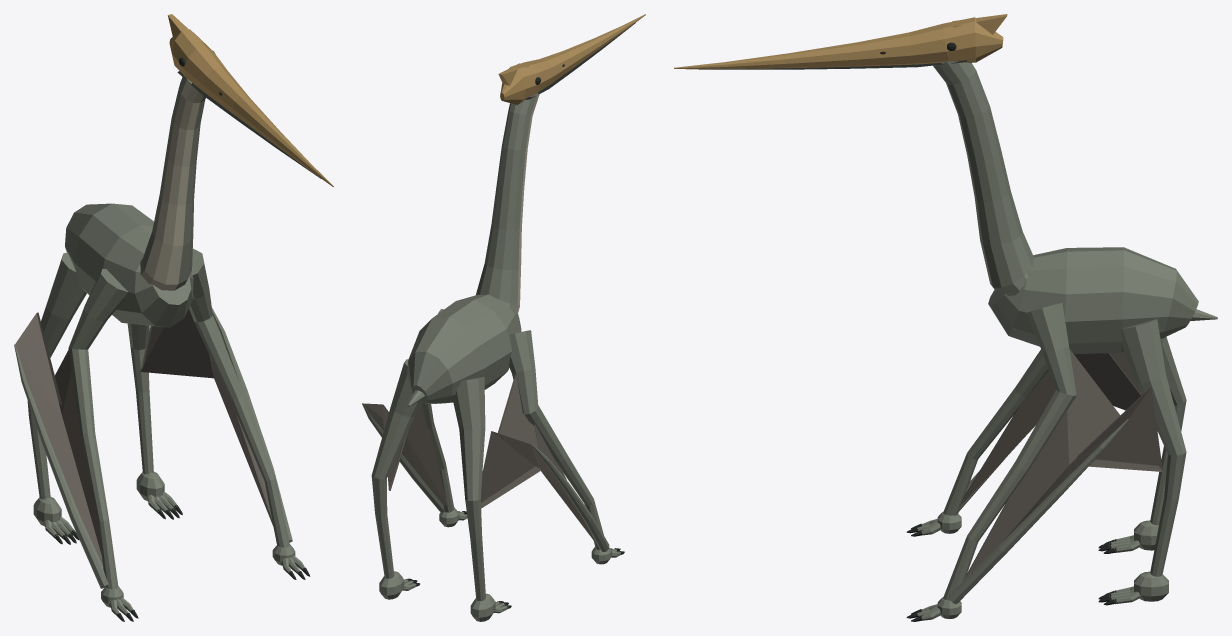
3 views of the same model, side by side, from view 1: azimuth 30°, elevation 25°; view 2: azimuth 150°, elevation 25°; view 3: azimuth 270°, elevation 25° (orthographic). The views are drawn at different scales.
Parts seen in each view (by area): view 1: 01-torso-neck-short-tail, 05-paired-forelimbs-and-three-fingered-hands, 07-folded-leathery-wing-membranes, 04-paired-hindlimbs-and-four-toed-feet, 02-long-toothless-head-and-mandible, 06-folded-wing-fingers; view 2: 01-torso-neck-short-tail, 04-paired-hindlimbs-and-four-toed-feet, 07-folded-leathery-wing-membranes, 05-paired-forelimbs-and-three-fingered-hands, 02-long-toothless-head-and-mandible, 06-folded-wing-fingers; view 3: 01-torso-neck-short-tail, 07-folded-leathery-wing-membranes, 05-paired-forelimbs-and-three-fingered-hands, 04-paired-hindlimbs-and-four-toed-feet, 02-long-toothless-head-and-mandible, 06-folded-wing-fingers.
Part boxes in pixels (<box>): 01-torso-neck-short-tail: <box>65,76,205,327</box>; 05-paired-forelimbs-and-three-fingered-hands: <box>68,248,310,621</box>; 07-folded-leathery-wing-membranes: <box>15,309,273,565</box>; 04-paired-hindlimbs-and-four-toed-feet: <box>27,252,182,544</box>; 02-long-toothless-head-and-mandible: <box>167,14,333,186</box>; 06-folded-wing-fingers: <box>14,308,292,588</box>; 01-torso-neck-short-tail: <box>407,93,539,406</box>; 04-paired-hindlimbs-and-four-toed-feet: <box>371,359,511,621</box>; 07-folded-leathery-wing-membranes: <box>363,374,595,541</box>; 05-paired-forelimbs-and-three-fingered-hands: <box>420,309,624,564</box>; 02-long-toothless-head-and-mandible: <box>498,14,645,104</box>; 06-folded-wing-fingers: <box>362,403,609,551</box>; 01-torso-neck-short-tail: <box>933,61,1217,354</box>; 07-folded-leathery-wing-membranes: <box>960,349,1162,578</box>; 05-paired-forelimbs-and-three-fingered-hands: <box>906,303,1076,621</box>; 04-paired-hindlimbs-and-four-toed-feet: <box>1098,319,1186,605</box>; 02-long-toothless-head-and-mandible: <box>674,14,1007,69</box>; 06-folded-wing-fingers: <box>948,419,1128,604</box>.
Size of the model in its own units: 0.838 by 2.14 by 1.89.
